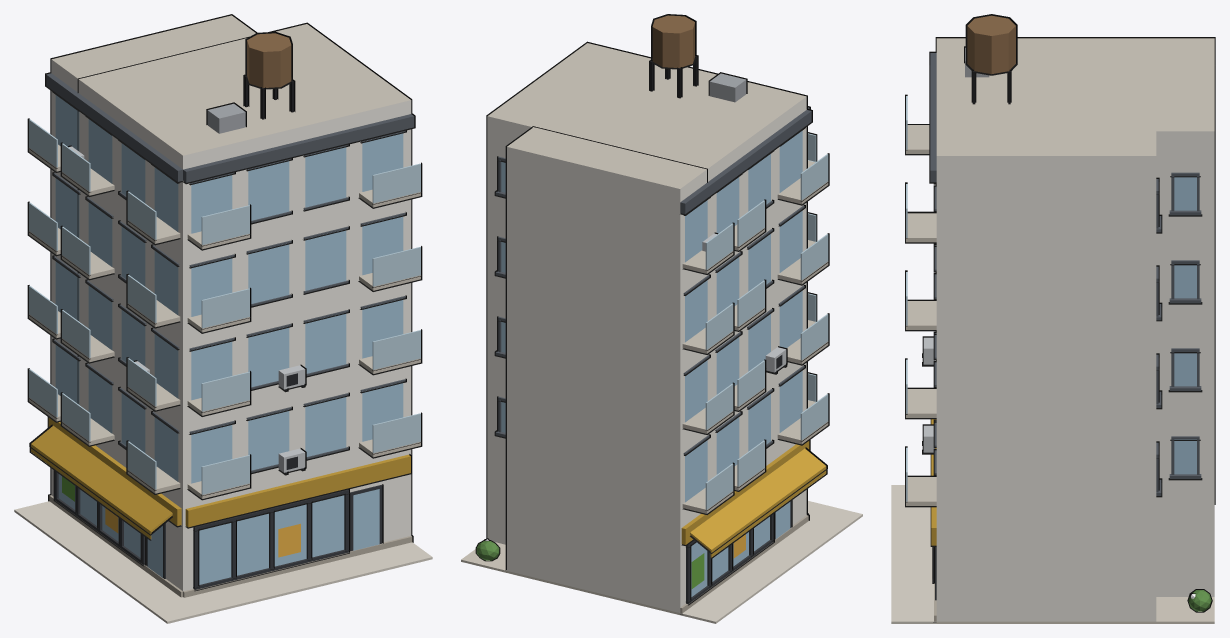
Rendered from Blok_kose_5k_2.fbx.
3 renders of one model, left to right at view 1: azimuth 30°, elevation 25°; view 2: azimuth 150°, elevation 25°; view 3: azimuth 270°, elevation 25°, orthographic. The views are drawn at different scales.
Parts seen in each view (by area): view 1: Blok_kose_5k_2; view 2: Blok_kose_5k_2; view 3: Blok_kose_5k_2.
Part boxes in pixels (x1,y1,x2,y2): Blok_kose_5k_2: [14, 14, 432, 623]; Blok_kose_5k_2: [461, 14, 862, 623]; Blok_kose_5k_2: [891, 14, 1215, 623].
Bounding box in the file's own units: 10.03 × 18.41 × 10.03.
